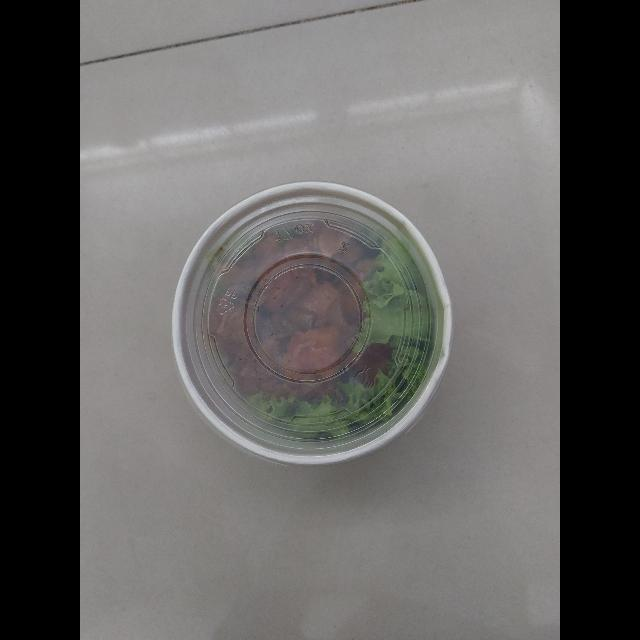rice-bowl: (157, 172, 461, 473)
